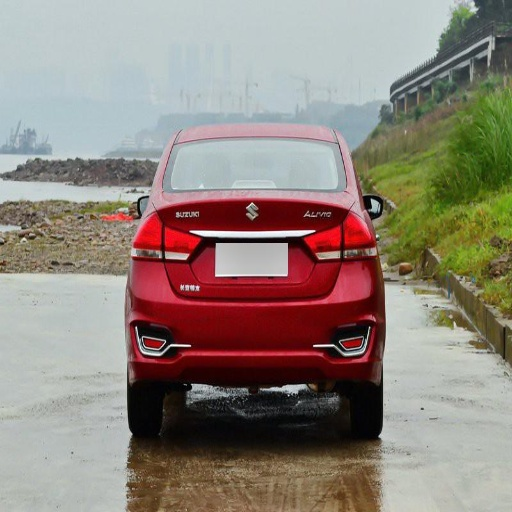back_bumper: (128, 257, 386, 381)
tailgate: (151, 188, 358, 298)
trunk: (135, 236, 241, 303)
